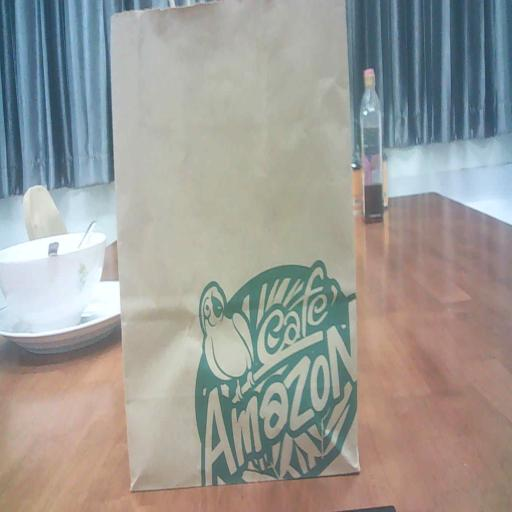bag: (104, 4, 362, 487)
